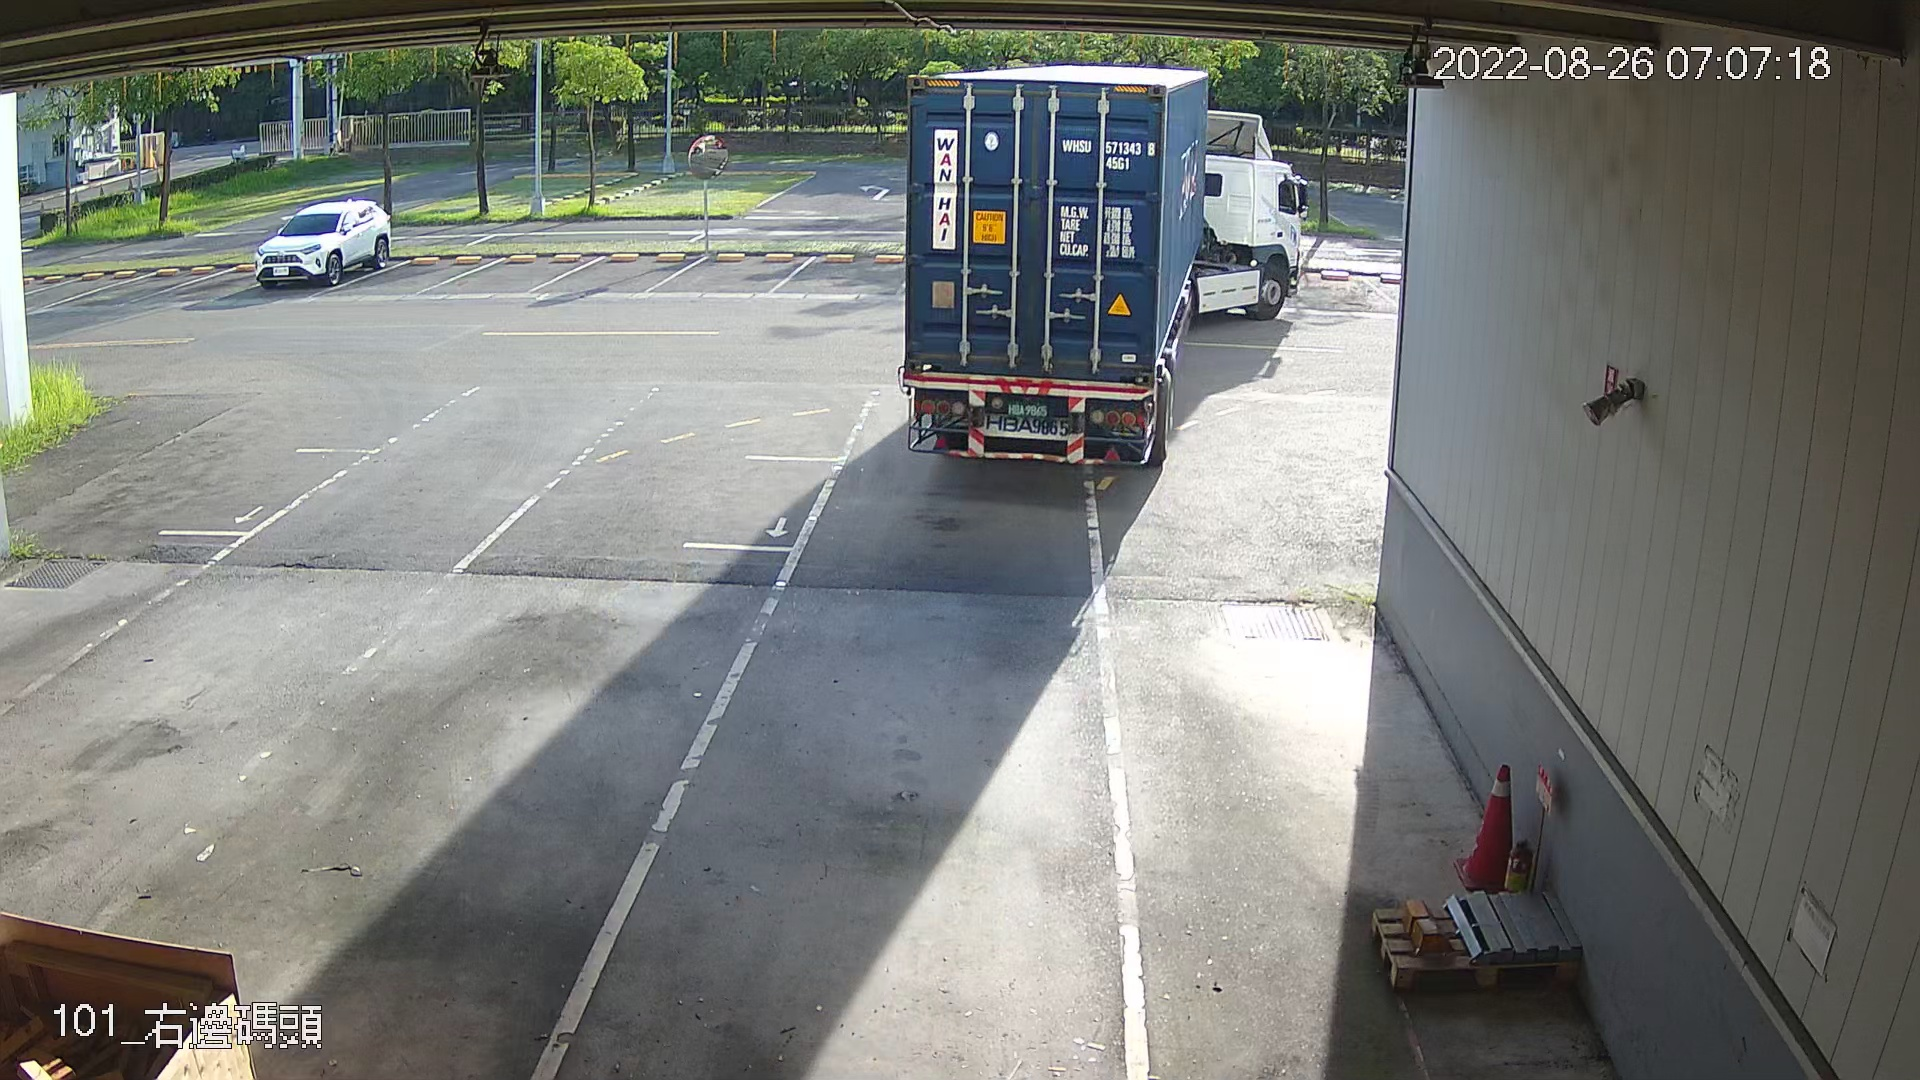container: (1056, 129, 1159, 179)
